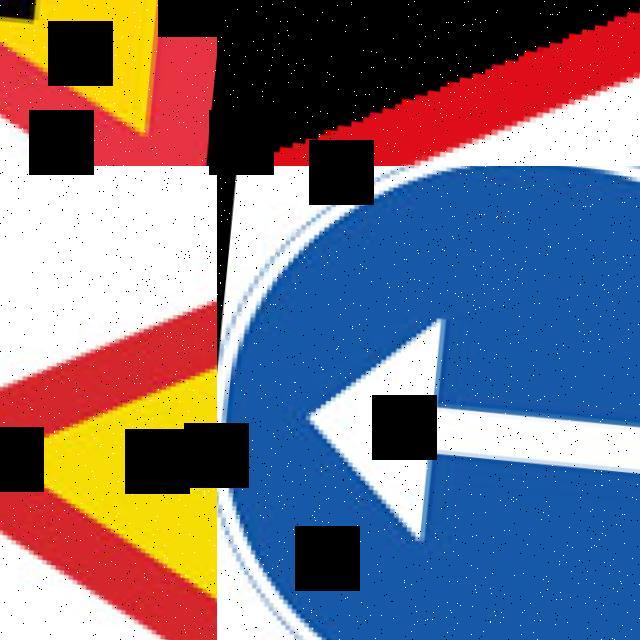154: (0, 166, 217, 640)
166: (0, 0, 217, 166)
Direction to be followed: (217, 166, 640, 640)
Uneven road: (217, 0, 640, 166)
